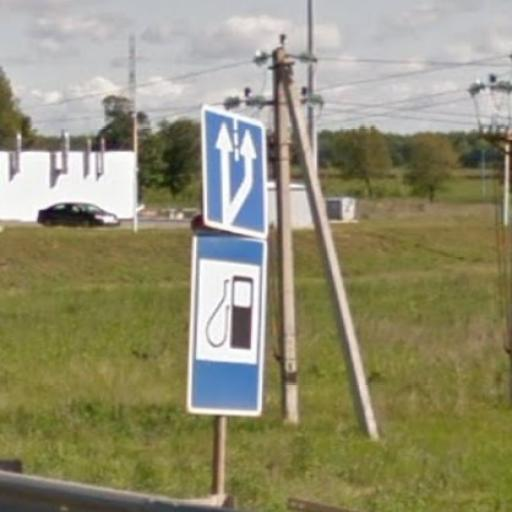traffic_sign: (186, 233, 273, 418)
